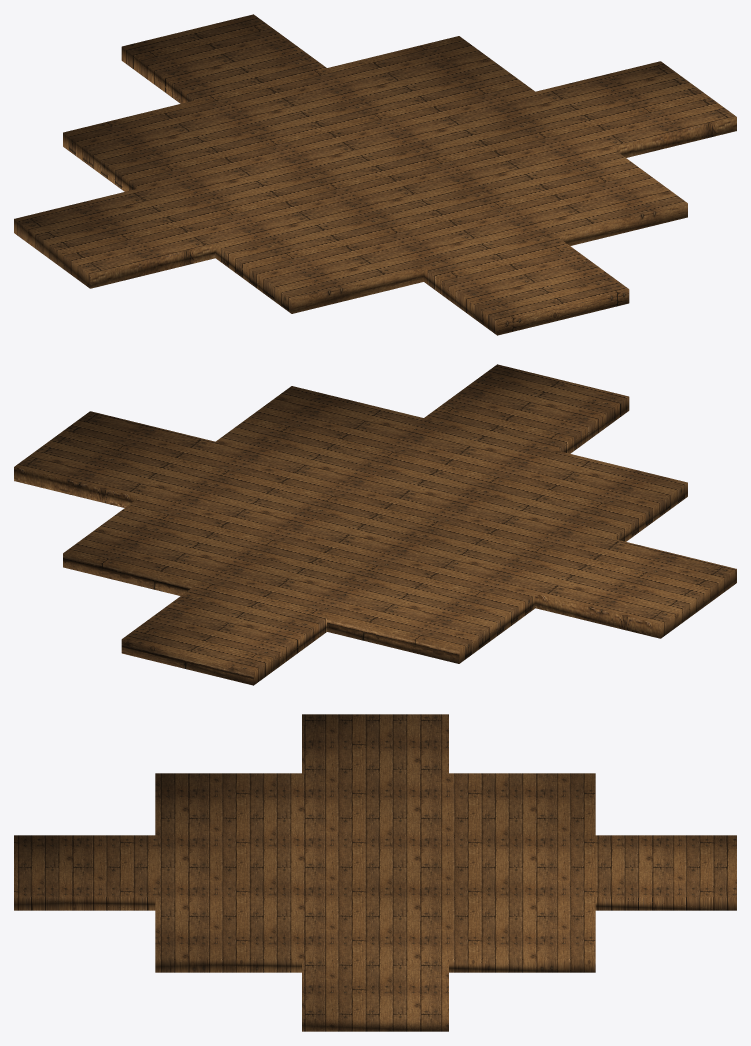
Rendered from Livingroom_Base_Z_Roof_Sub.fbx.
3 views of the same model, one above another, from view 1: azimuth 30°, elevation 25°; view 2: azimuth 150°, elevation 25°; view 3: azimuth 270°, elevation 25° (orthographic). The views are drawn at different scales.
Visible parts, largest first — view 1: Livingroom_Base_Z_Roof_Sub; view 2: Livingroom_Base_Z_Roof_Sub; view 3: Livingroom_Base_Z_Roof_Sub.
Part boxes in pixels (box(x1,y1,x2,y2)): Livingroom_Base_Z_Roof_Sub: box(14, 14, 736, 335); Livingroom_Base_Z_Roof_Sub: box(14, 364, 736, 685); Livingroom_Base_Z_Roof_Sub: box(14, 714, 736, 1031).
Size of the model in its own units: 1512 by 39.33 by 1521.
